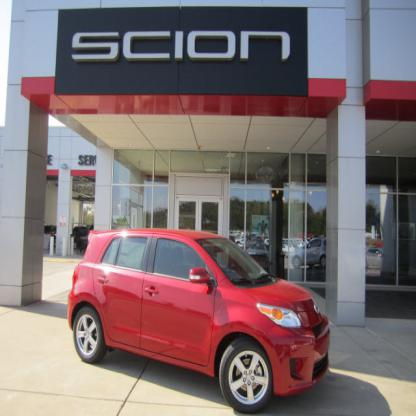Vehicle: (68, 226, 332, 415)
